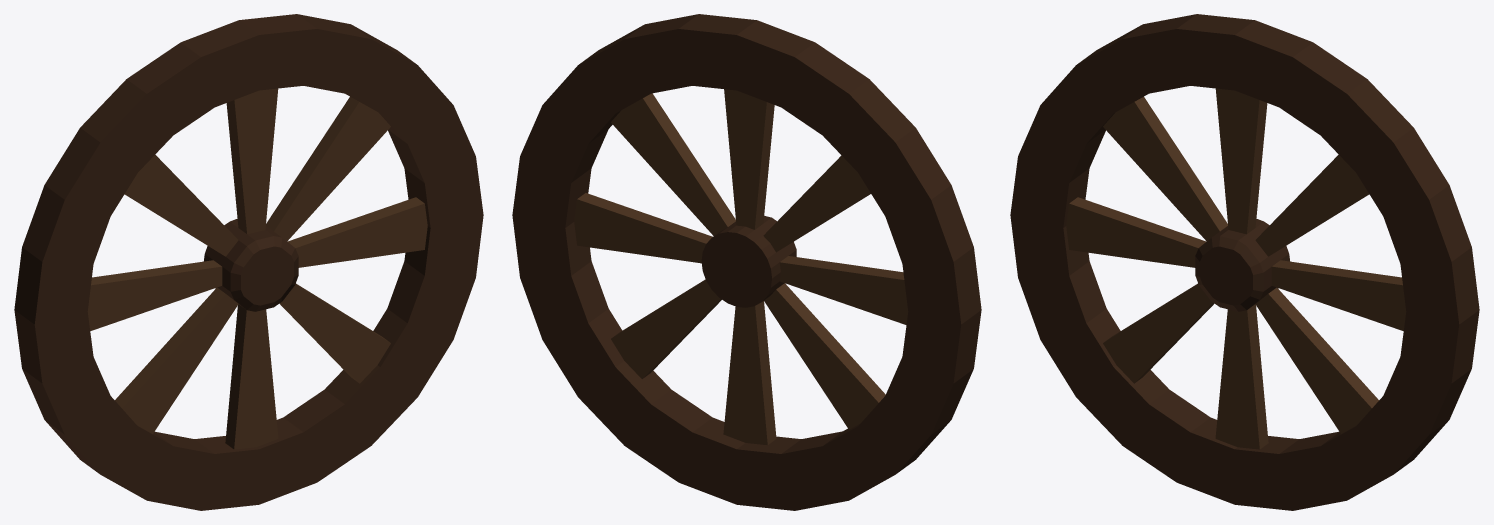
File: Cave_Lair_Wooden_Timber_Wagon_Wheel_Junk_01.fbx
3 views of the same model, side by side, from view 1: azimuth 30°, elevation 25°; view 2: azimuth 150°, elevation 25°; view 3: azimuth 330°, elevation 25° (orthographic).
Visible parts, largest first — view 1: Cave_Lair_Wooden_Timber_Wagon_Wheel_Junk_01; view 2: Cave_Lair_Wooden_Timber_Wagon_Wheel_Junk_01; view 3: Cave_Lair_Wooden_Timber_Wagon_Wheel_Junk_01.
Part boxes in pixels (x1,y1,x2,y2): Cave_Lair_Wooden_Timber_Wagon_Wheel_Junk_01: [14, 14, 483, 510]; Cave_Lair_Wooden_Timber_Wagon_Wheel_Junk_01: [512, 14, 981, 510]; Cave_Lair_Wooden_Timber_Wagon_Wheel_Junk_01: [1010, 14, 1479, 510].
Bounding box in the file's own units: 0.9241 × 0.9241 × 0.1023.
